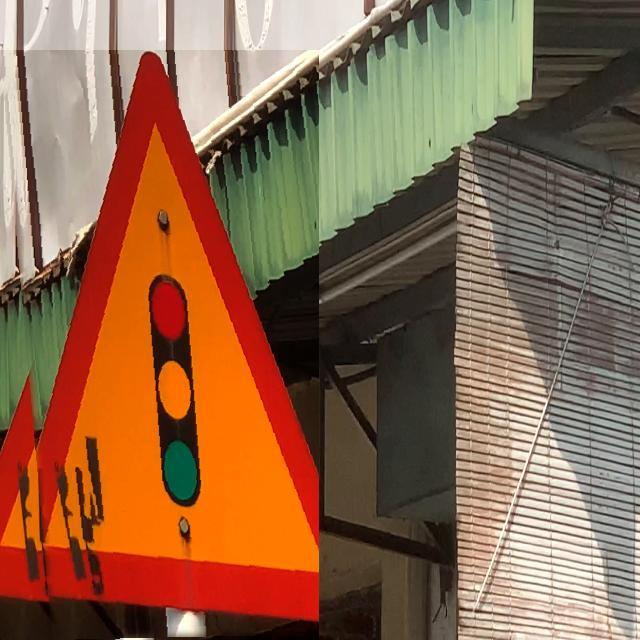W-209: (0, 50, 319, 640)
